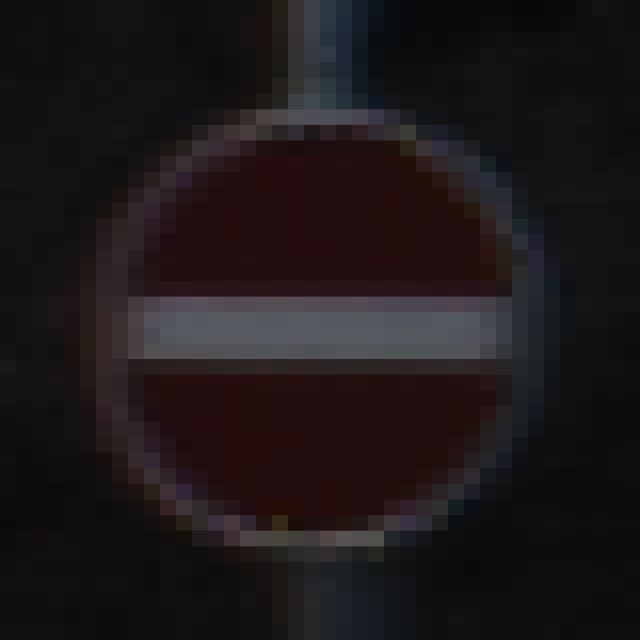No Entry: (97, 79, 561, 563)
